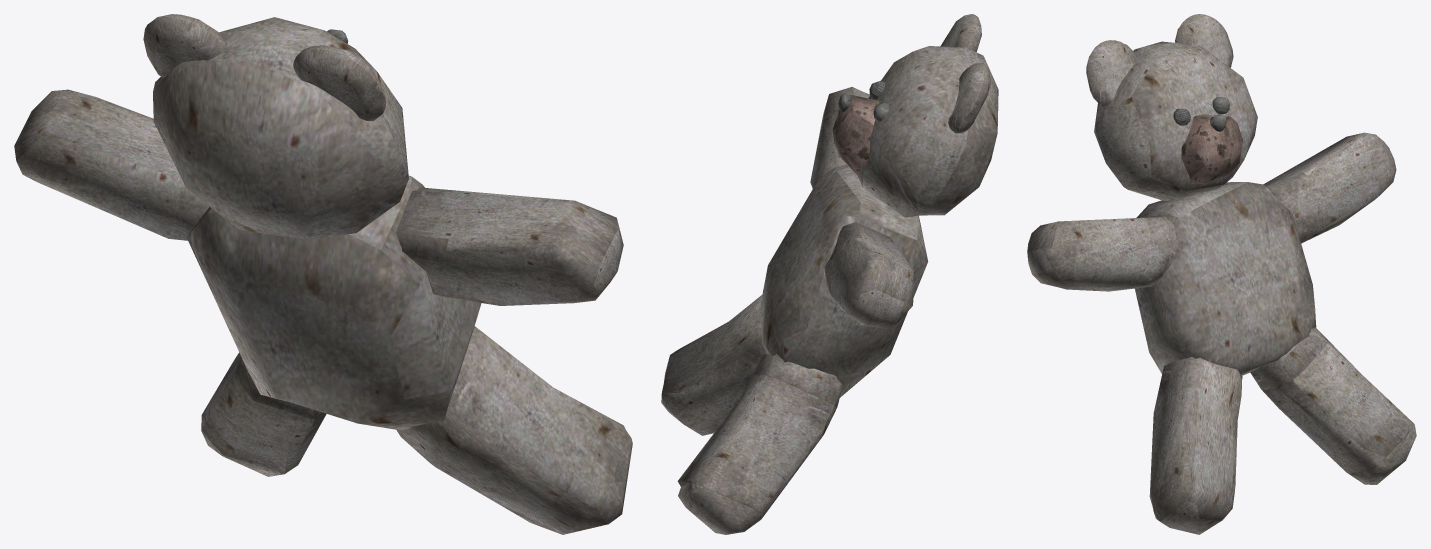
File: Teddy.fbx
3 views of the same model, side by side, from view 1: azimuth 30°, elevation 25°; view 2: azimuth 150°, elevation 25°; view 3: azimuth 270°, elevation 25° (orthographic). The views are drawn at different scales.
Visible parts, largest first — view 1: Teddy; view 2: Teddy; view 3: Teddy.
Boxes of the visible parts, box(x1,y1,x2,y2) form: Teddy: box(14, 14, 632, 534); Teddy: box(661, 14, 998, 534); Teddy: box(1027, 14, 1416, 534).
Bounding box in the file's own units: 75.08 × 91.55 × 81.56.
